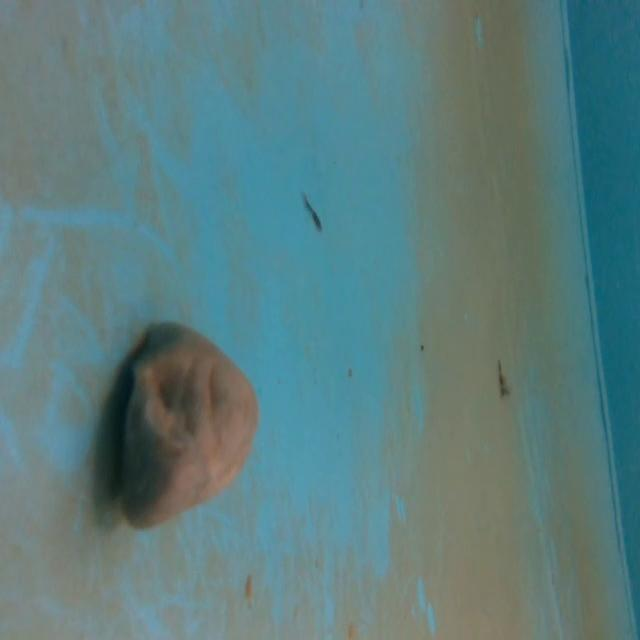rock: (102, 310, 266, 542)
